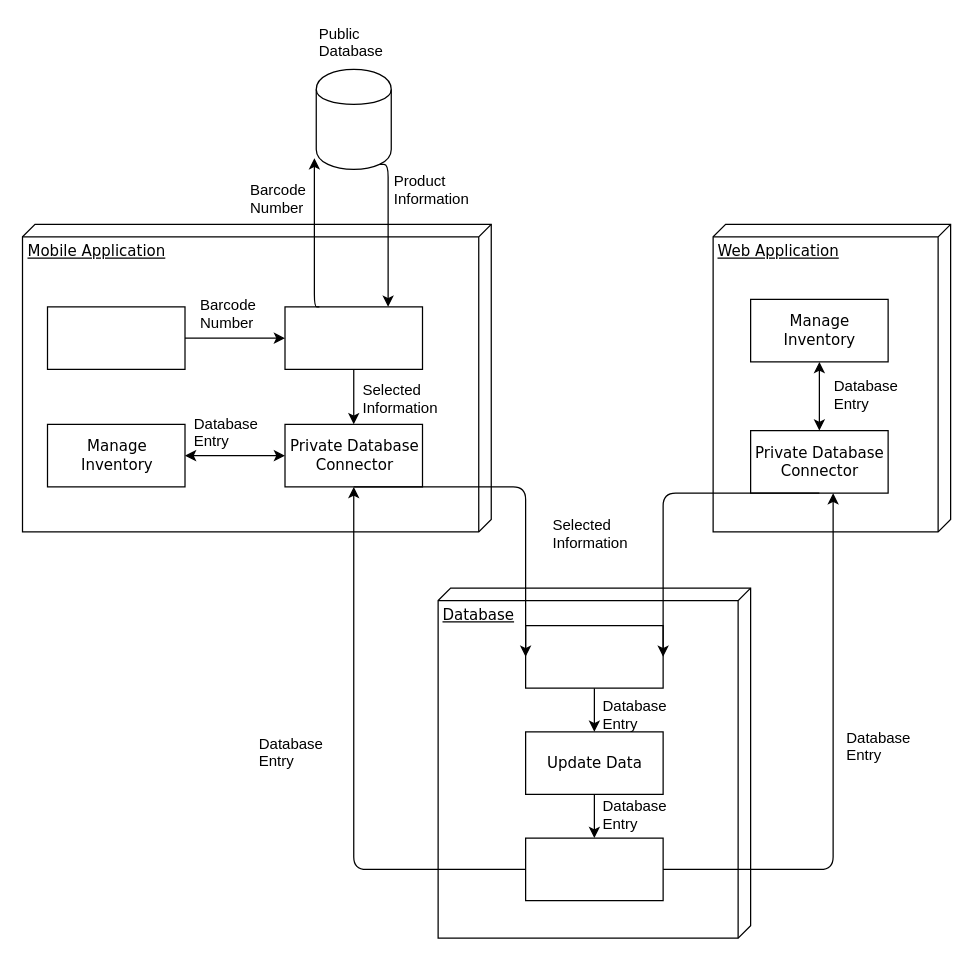
Image size: 973x960. Some labels were removed from this diagram. Here are the shapes that lost their labels. From the top down, the centre of each, then its label:
At point (115, 337): "Barcode Reader".
At point (353, 337): "Public Database Connector".
At point (593, 656): "Receive Data".
At point (593, 869): "Send Data".
